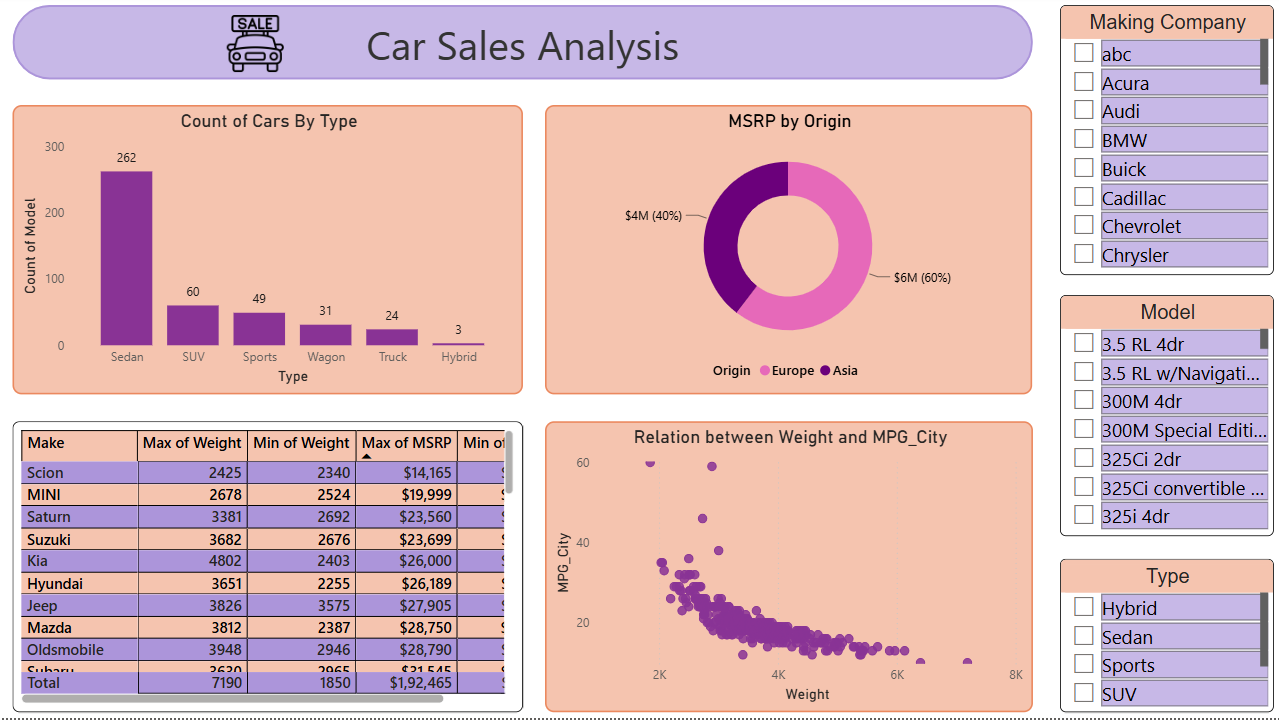

The page's visual inventory and layout, read from the dashboard file:
{"tool":"powerbi","page":{"name":"Page 1","canvas":[1280,720],"ordinal":0},"visuals":[{"type":"shape","box":[13,10.4,1015.6,74],"z":0},{"type":"clusteredColumnChart","title":"Count of Cars By Type","fields":{"Category":["CARS.Type"],"Y":["CountNonNull(CARS.Model)"]},"box":[13,109.1,507.8,288.3],"z":1000},{"type":"donutChart","title":"MSRP by Origin","fields":{"Category":["CARS.Origin"],"Y":["Sum(CARS.MSRP)"]},"box":[542.9,109.1,484.4,288.3],"z":2000},{"type":"pivotTable","title":"wdswd","fields":{"Rows":["CARS.Make"],"Values":["Max(CARS.Weight)1","Min(CARS.Weight)","Max(CARS.MSRP)","Min(CARS.MSRP)"]},"box":[13,424.7,507.8,289.6],"z":3000},{"type":"scatterChart","title":"Relation between Weight and MPG_City","fields":{"X":["CARS.Weight"],"Y":["CARS.MPG_City"]},"box":[542.9,424.7,485.7,289.6],"z":4000},{"type":"slicer","title":"Making Company","fields":{"Values":["CARS.Make"]},"box":[1054.5,10.4,213,268.8],"z":5000},{"type":"slicer","title":"Model","fields":{"Values":["CARS.Model"]},"box":[1054.5,298.7,213,240],"z":6000},{"type":"slicer","title":"Type","fields":{"Values":["CARS.Type"]},"box":[1054.5,561,213,153],"z":7000},{"type":"image","box":[170.1,19.5,167.5,57.1],"z":8000}]}

Visuals, with their boxes in screenshot pixels (x1, y1, x2, y2), scaled from the page's 1280x720 canvas onto the 1279x722 screenshot:
shape: (13,10,1028,85)
"Count of Cars By Type" clusteredColumnChart: (13,109,520,399)
"MSRP by Origin" donutChart: (542,109,1026,399)
"wdswd" pivotTable: (13,426,520,716)
"Relation between Weight and MPG_City" scatterChart: (542,426,1028,716)
"Making Company" slicer: (1054,10,1267,280)
"Model" slicer: (1054,300,1267,540)
"Type" slicer: (1054,563,1267,716)
image: (170,20,337,77)
